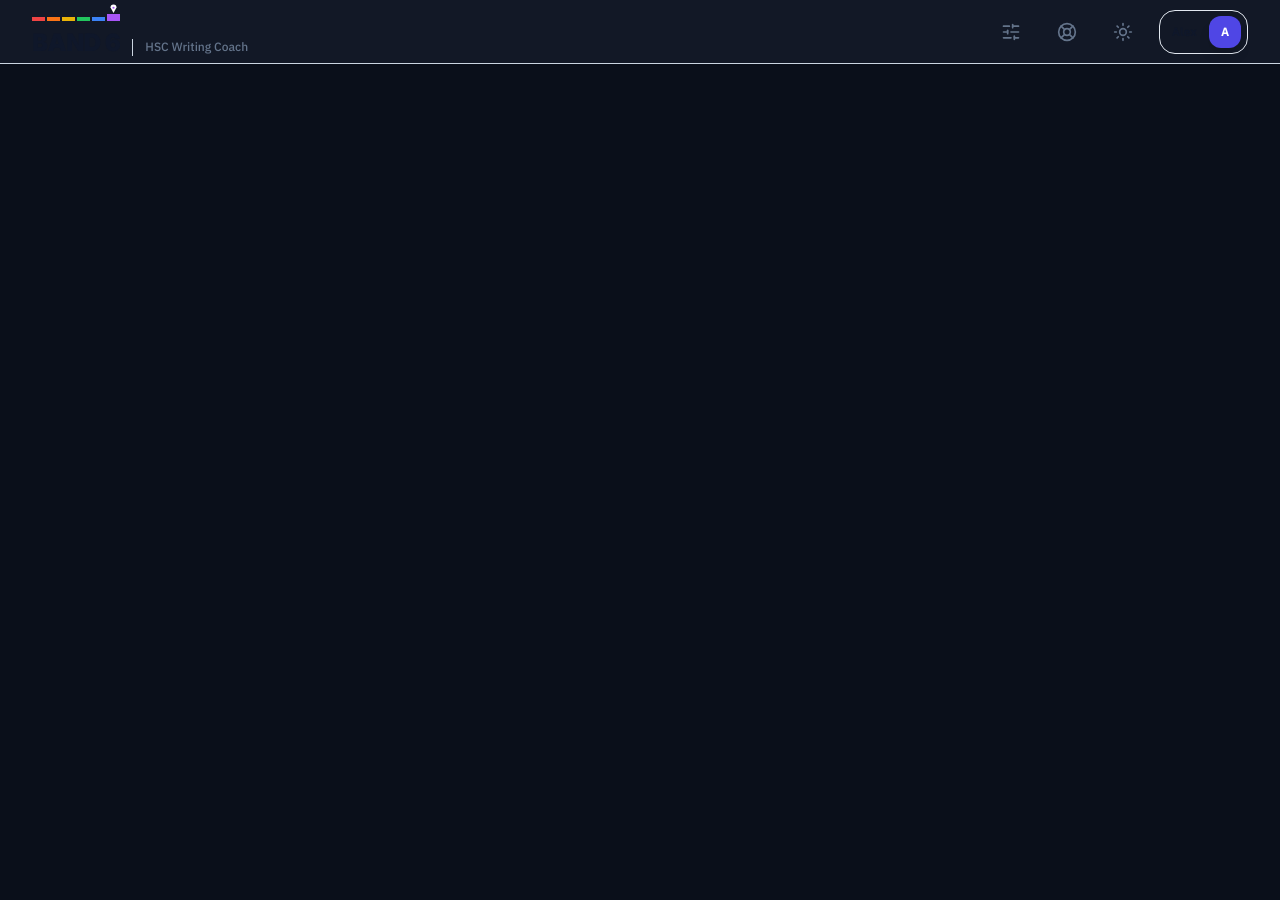
Test: the tools popover follows the non-modal contract › closes on a press outside it, but not on one inside
Click the button named "Admin tools": (1011, 32) [991,12,1031,52]
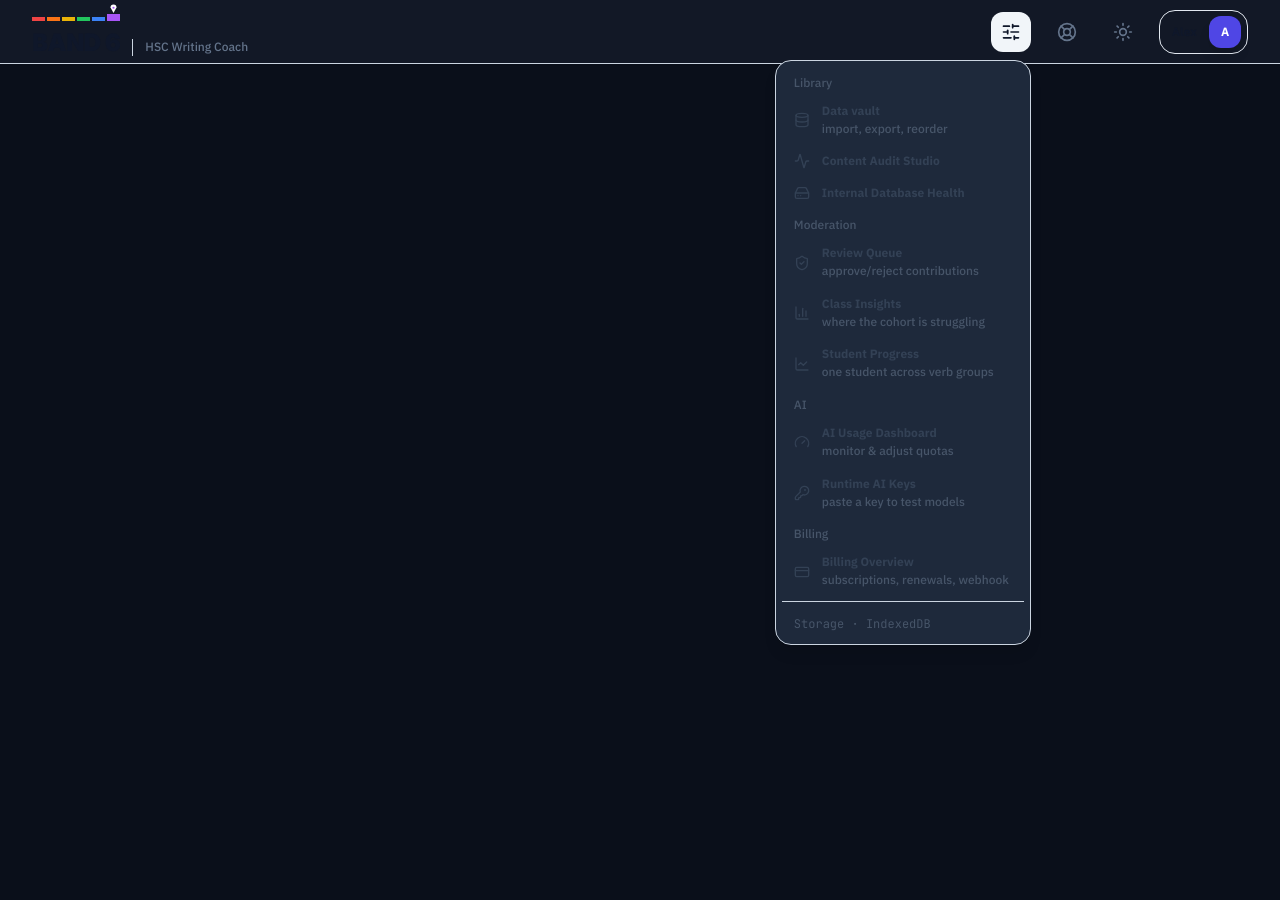
Press the mouse on the dialog: (903, 352) [775,60,1031,645]
Now the dialog is shown, box [775,60,1031,645]
Press the mouse on the element that starts with "Band 6": (640, 32) [0,0,1279,64]
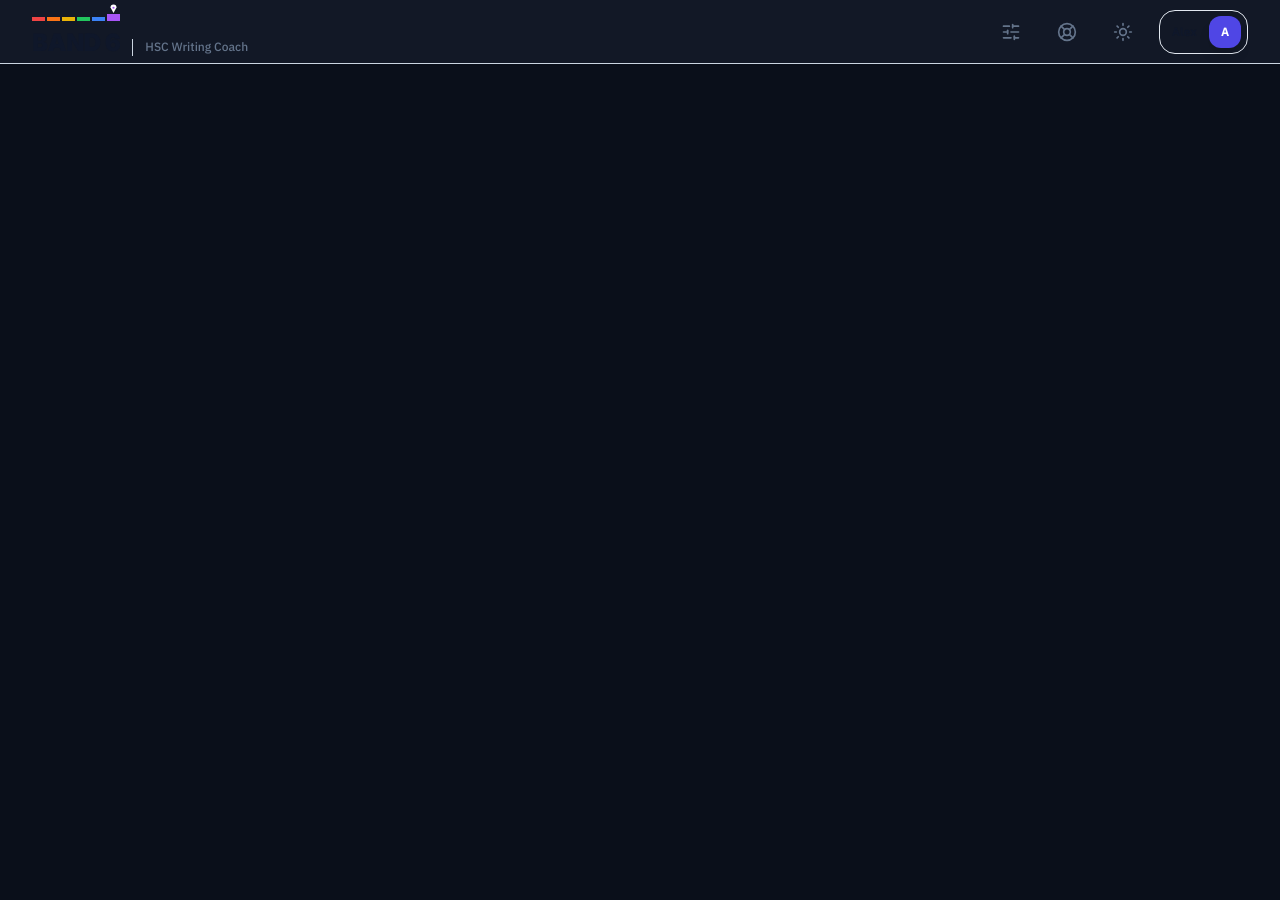
Now the dialog is gone
